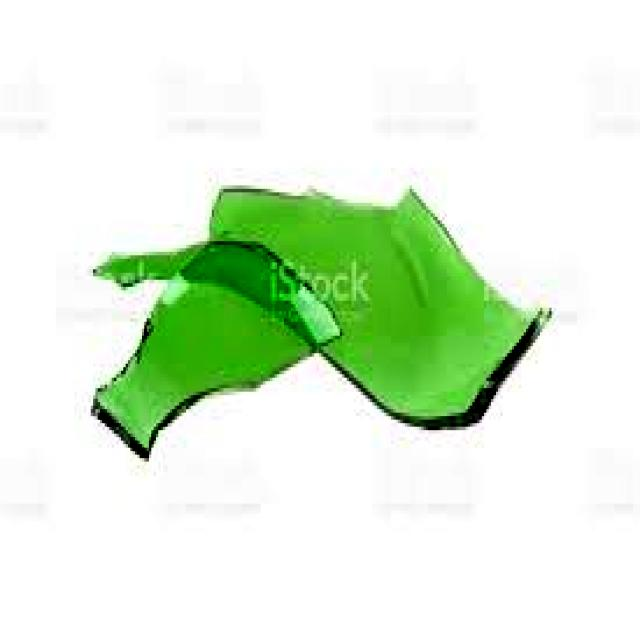Glass: (87, 183, 556, 438), (87, 233, 346, 466)
